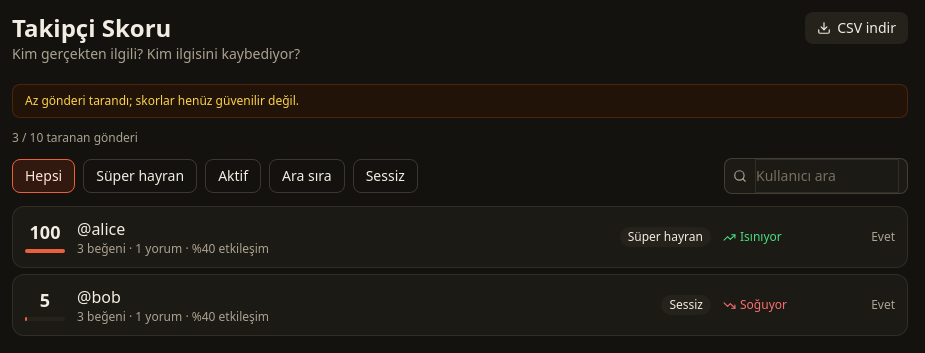
Test: FansPage › lists fans, filters by tier and search, warns on few posts
The image size is (925, 353).
Check: the text "@alice" is shown, box [77, 218, 125, 240]
Check: the text "Az gönderi tarandı; skorlar henüz güvenilir değil." is shown, box [12, 84, 908, 118]
Click the button "Sessiz" at (385, 176), box [353, 159, 418, 193]
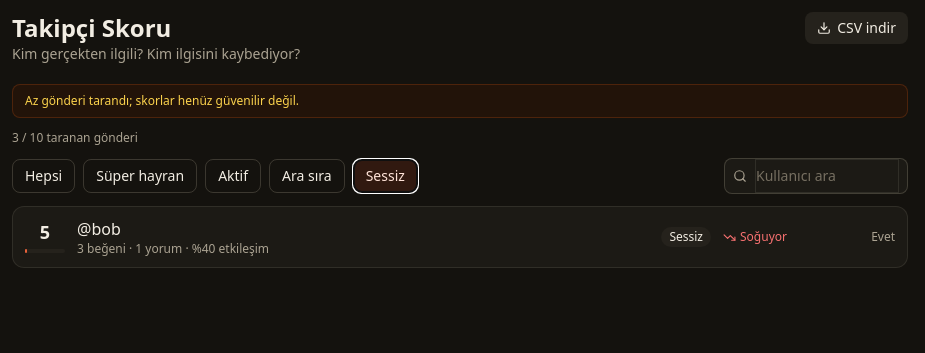
Check: the text "@bob" is shown, box [77, 218, 121, 240]
Check: the text "@alice" is gone
Click the button "Hepsi" at (44, 176), box [12, 159, 75, 193]
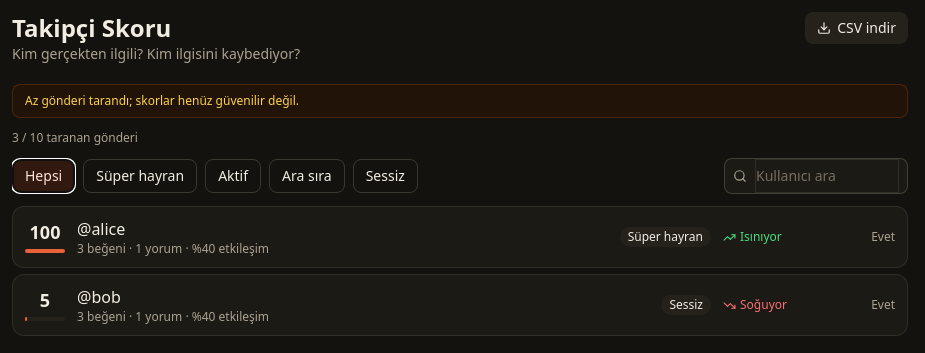
Type "ali" into the field labelled "Kullanıcı ara" at (827, 176), box [755, 159, 899, 193]
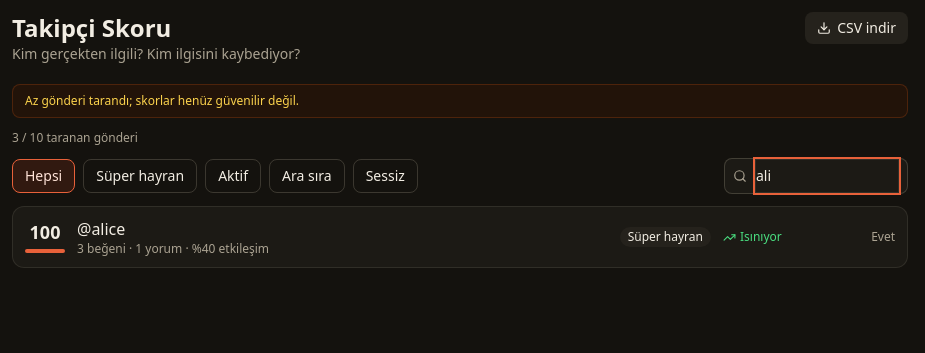
Check: the text "@alice" is shown, box [77, 218, 125, 240]
Check: the text "@bob" is gone
